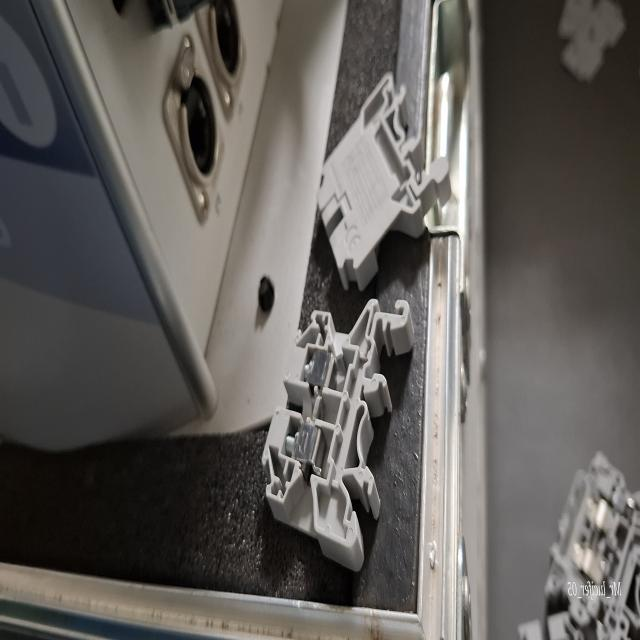Inverted: (282, 45, 444, 293)
Pass: (255, 284, 420, 576)
